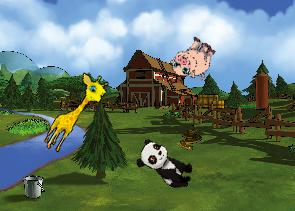giraffe: (40, 67, 112, 160)
panda: (132, 136, 199, 193)
pig: (166, 31, 220, 86)
